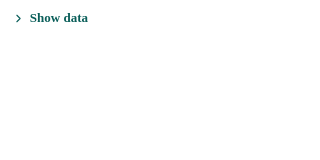
toggles open and closed on click
Click the button "Show data" at (50,18), box 8,8 -> 92,29
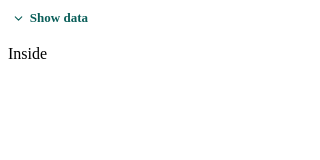
Check: the button "Show data" is expanded
Check: the text "Inside" is shown, box 8,45 -> 47,62
Click the button "Show data" at (50,18), box 8,8 -> 92,29
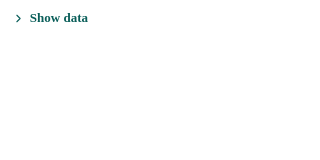
Check: the text "Inside" is gone
